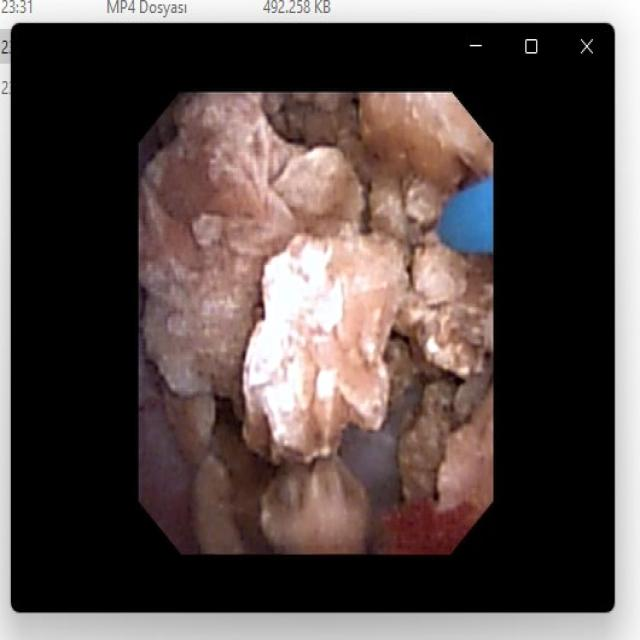fiber: (444, 185, 487, 247)
stone: (144, 98, 488, 547)
